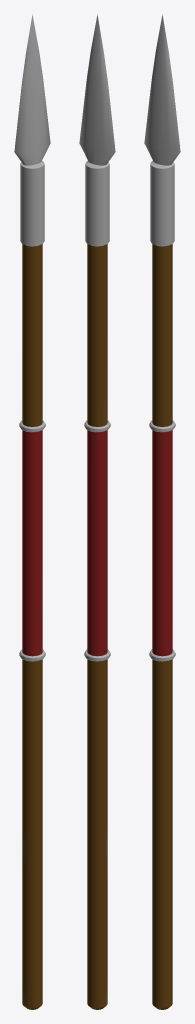
File: GuardSpear.fbx
The picture shows the model from 3 angles, left to right: view 1: azimuth 30°, elevation 25°; view 2: azimuth 150°, elevation 25°; view 3: azimuth 330°, elevation 25°; orthographic projection.
Parts seen in each view (by area): view 1: Spear; view 2: Spear; view 3: Spear.
Part boxes in pixels (x1,y1,x2,y2): Spear: [14, 14, 50, 1009]; Spear: [79, 14, 115, 1009]; Spear: [144, 14, 180, 1009].
Bounding box in the file's own units: 0.0812 × 0.0504 × 2.12.
